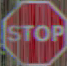Stop: (5, 5, 66, 61)
